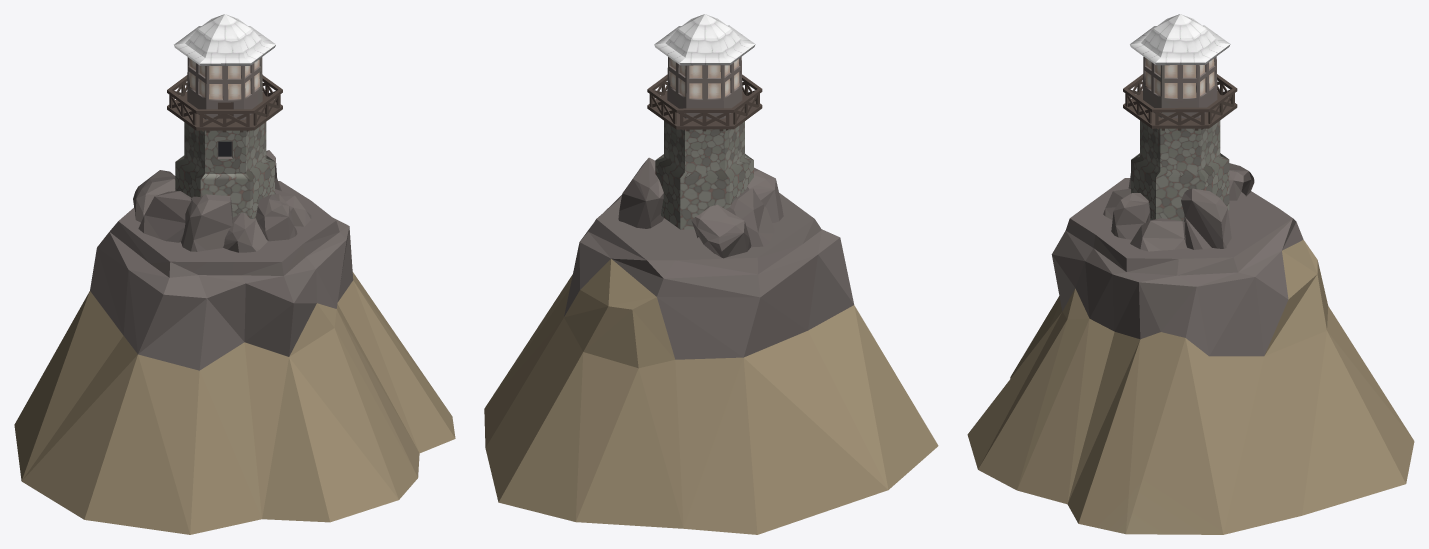
Rendered from lighthouse.fbx.
The picture shows the model from 3 angles, left to right: view 1: azimuth 30°, elevation 25°; view 2: azimuth 150°, elevation 25°; view 3: azimuth 270°, elevation 25°; orthographic projection.
Visible parts, largest first — view 1: lighthouse; view 2: lighthouse; view 3: lighthouse.
Part boxes in pixels (left/top/right/bottom): lighthouse: left=14, top=14, right=455, bottom=534; lighthouse: left=484, top=14, right=938, bottom=534; lighthouse: left=967, top=14, right=1414, bottom=534.
Size of the model in its own units: 7.03 by 7.42 by 7.
Materials: 3 (3 with a texture image).
